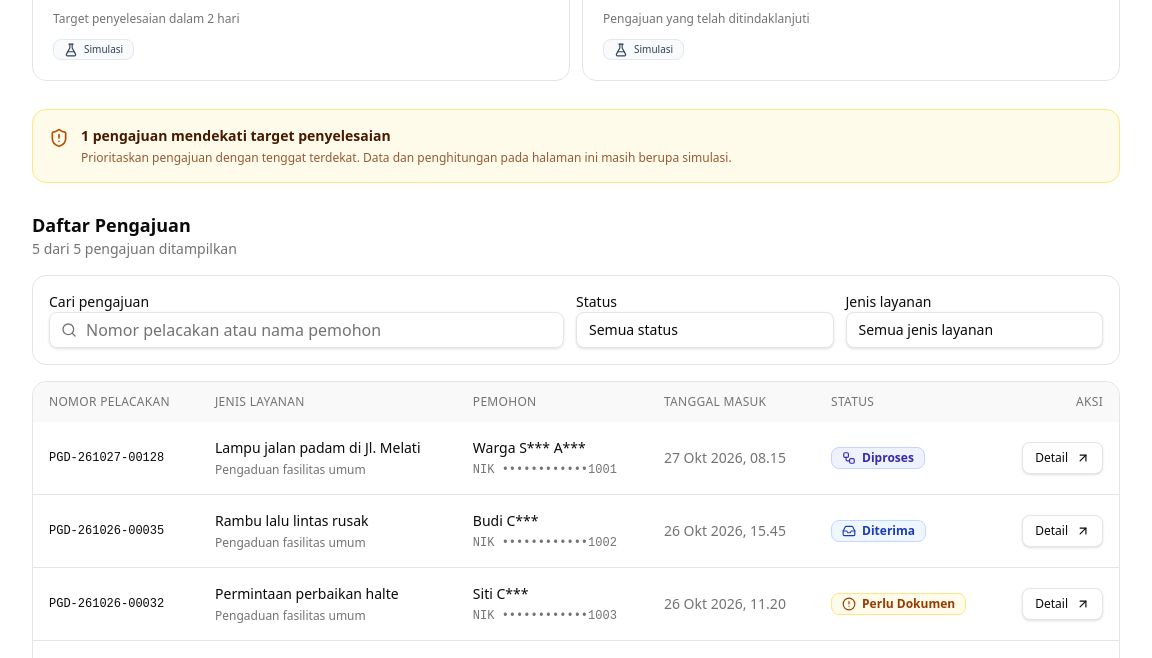
Test: AgencyDashboard › searches and filters by applicant, tracking number, status, and service type
The image size is (1152, 658).
(page scrolled)
In the field named "Cari nomor pelacakan atau nama pemohon": (306, 330) [49,312,564,348], type "PGD-261026-00035"
(page scrolled)
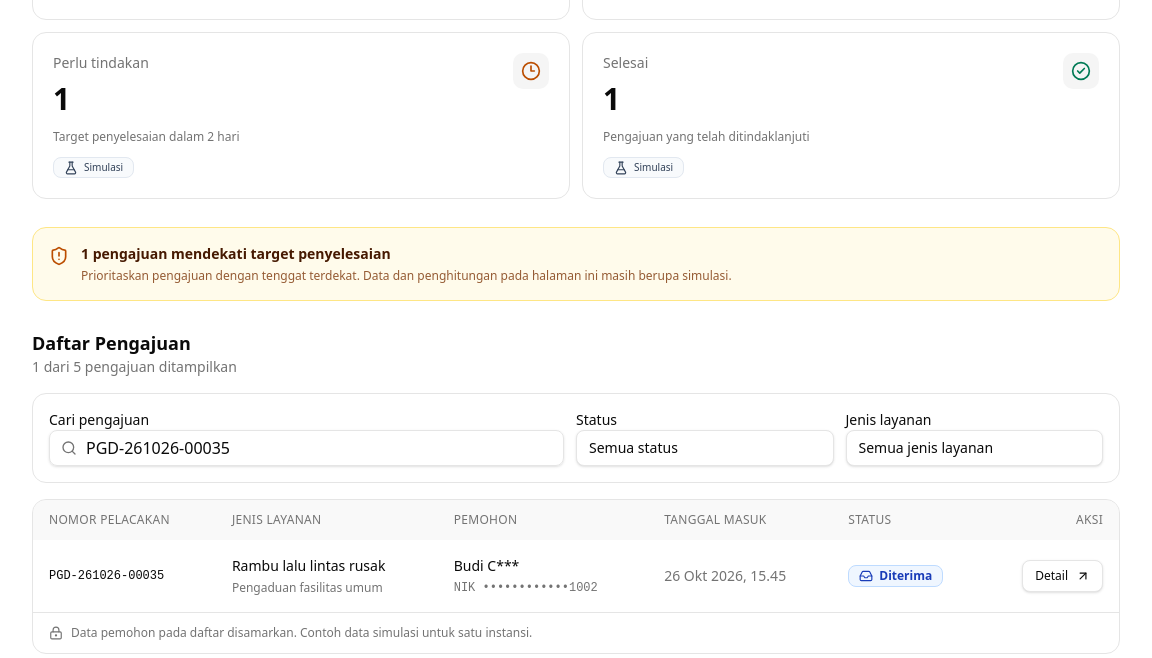
Expected: the text "Rambu lalu lintas rusak" is shown, [232,556,385,575]
Result: the text "Lampu jalan padam di Jl. Melati" is gone
Replace the text in the field named "Cari nomor pelacakan atau nama pemohon" with "Siti Contoh": (306, 448) [49,430,564,466]
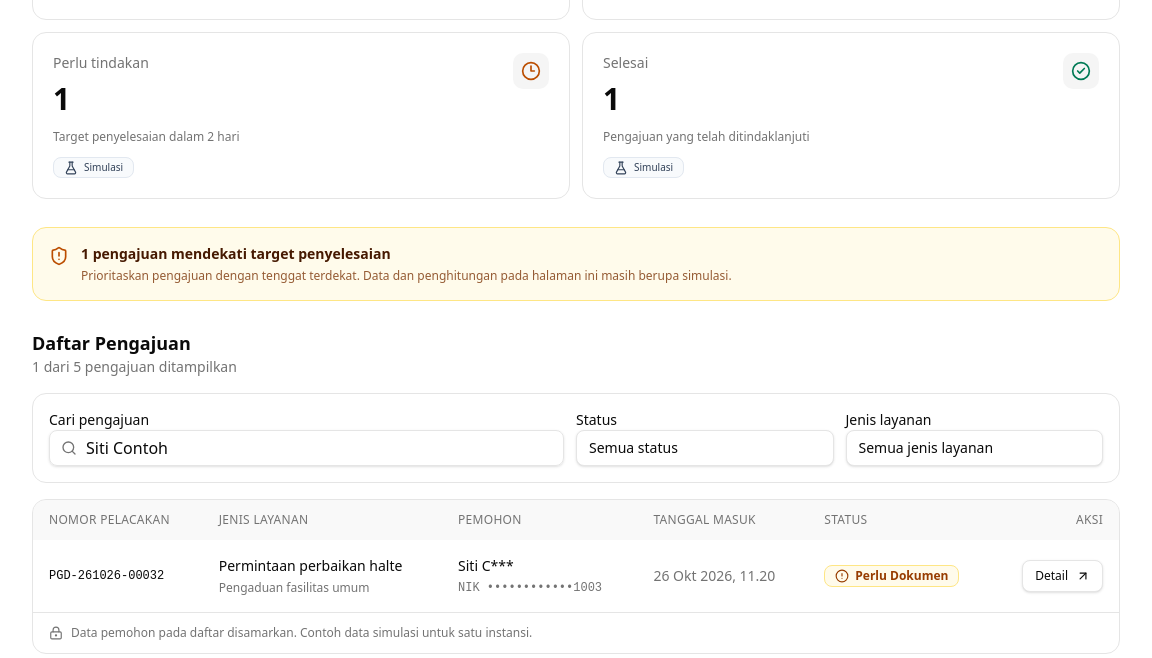
Result: the text "Permintaan perbaikan halte" is shown at [219,556,426,576]
Clear the field named "Cari nomor pelacakan atau nama pemohon": (306, 448) [49,430,564,466]
(page scrolled)
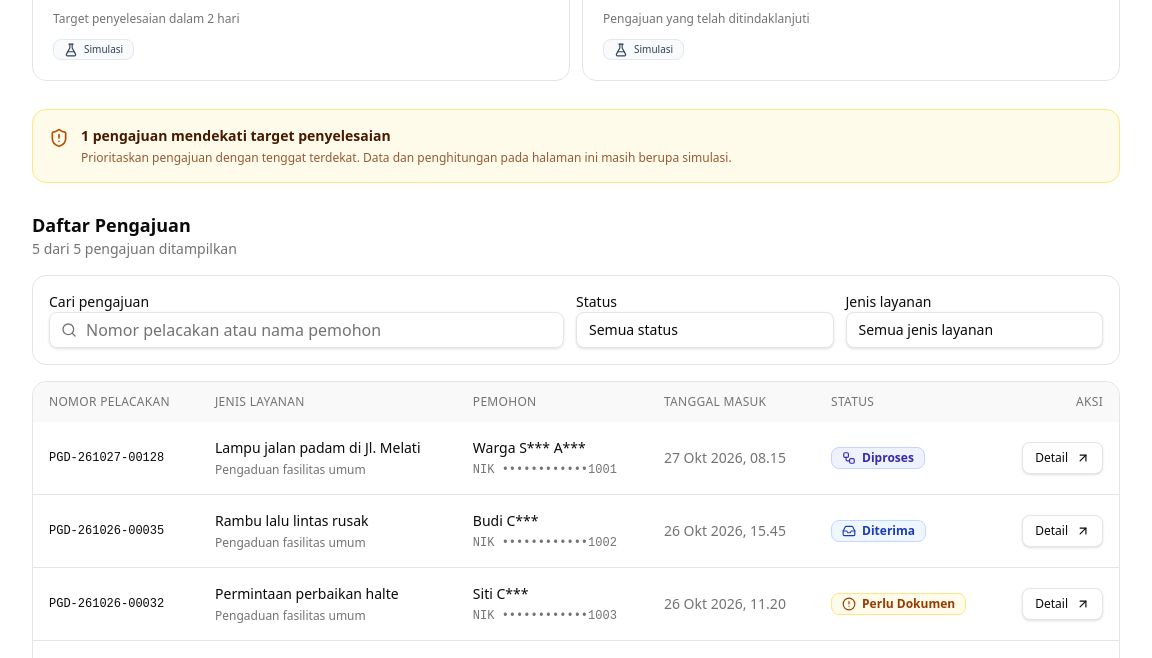
Select "Perlu Dokumen" in the dropdown named "Filter status": (705, 330) [576,312,834,348]
(page scrolled)
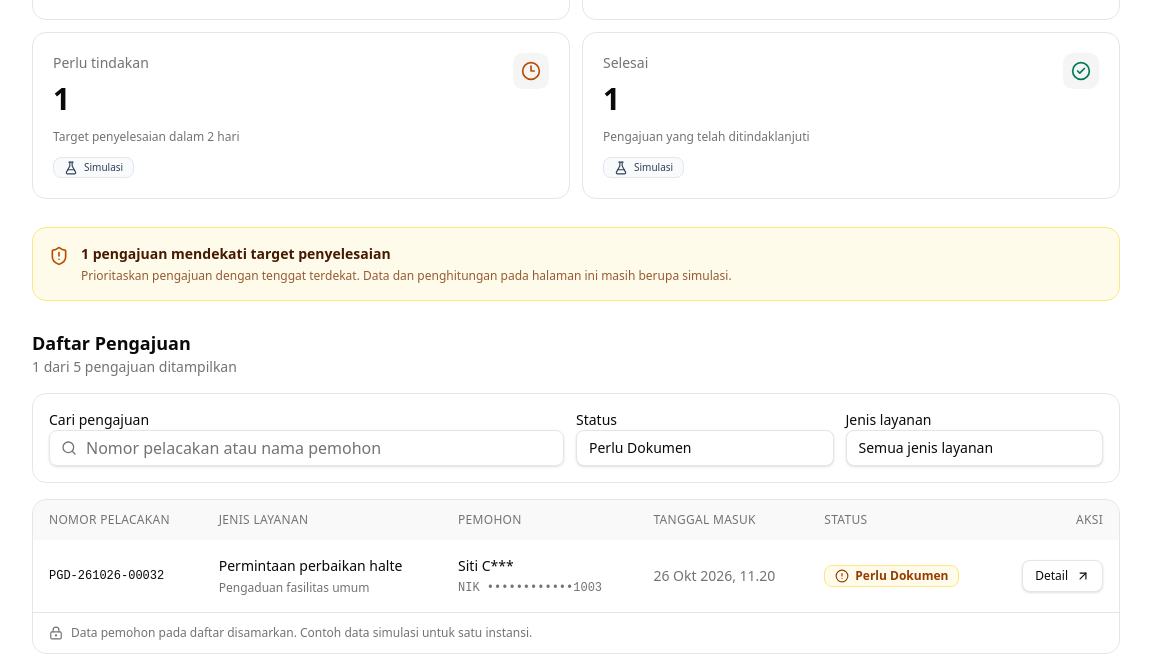
Result: the text "Permintaan perbaikan halte" is shown at [219,556,426,576]
Result: the text "Rambu lalu lintas rusak" is gone
Select "Semua status" in the dropdown named "Filter status": (705, 448) [576,430,834,466]
(page scrolled)
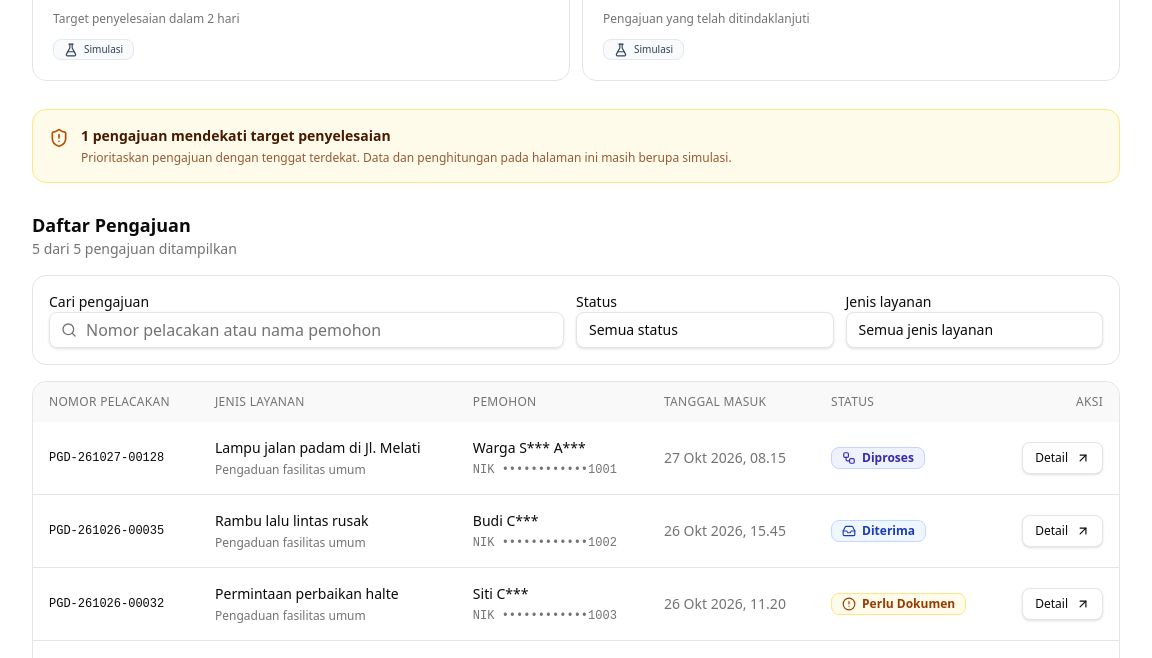
Select "Permohonan fasilitas" in the dropdown named "Filter jenis layanan": (974, 330) [846,312,1103,348]
(page scrolled)
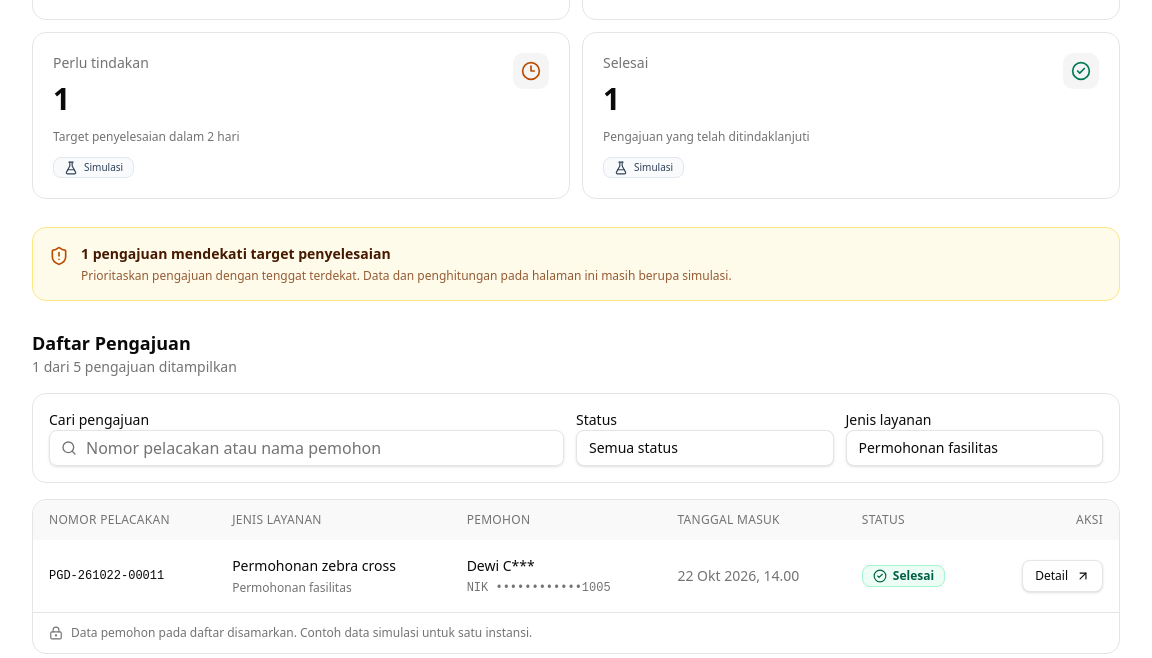
Result: the text "Permohonan zebra cross" is shown at [232,556,396,575]
Result: the text "Lampu jalan padam di Jl. Melati" is gone
